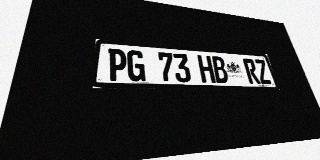3: (173, 53, 192, 82)
7: (157, 52, 176, 82)
B: (211, 56, 230, 83)
G: (127, 50, 146, 81)
H: (197, 55, 216, 83)
P: (107, 48, 127, 81)
R: (242, 58, 261, 84)
Z: (254, 59, 272, 84)
